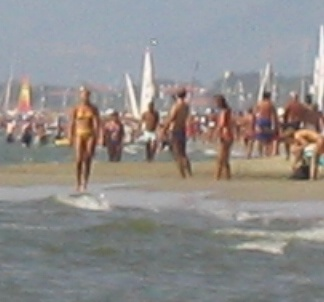person: (66, 84, 103, 193)
